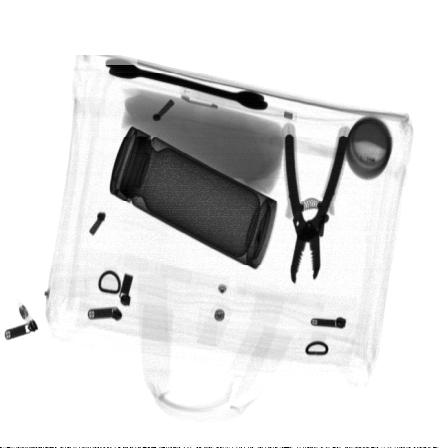Pliers: (280, 117, 355, 287)
Wrench: (103, 55, 269, 111)
